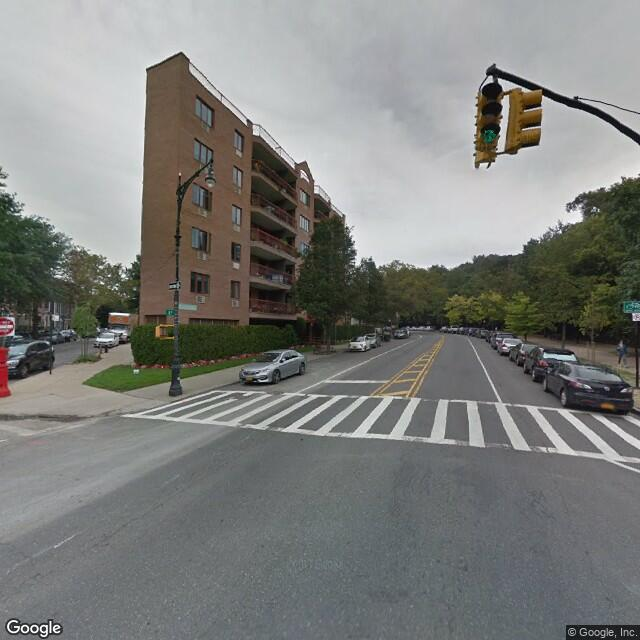litter: (130, 366, 155, 377)
